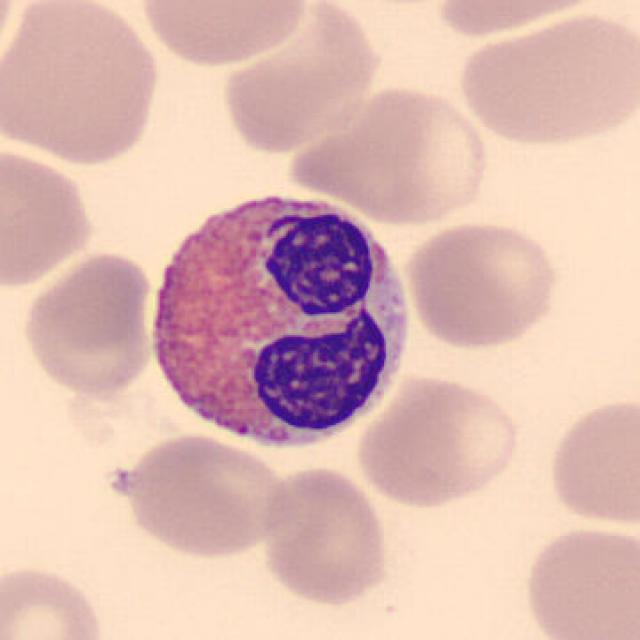Eosinophil: (137, 171, 423, 469)
RBC: (290, 81, 496, 228), (0, 0, 163, 169), (215, 0, 382, 157), (454, 7, 636, 150), (107, 430, 297, 561), (352, 371, 523, 512), (402, 216, 564, 352), (18, 247, 158, 398), (254, 462, 393, 608), (0, 141, 98, 293), (519, 520, 638, 640), (544, 391, 640, 531), (135, 0, 313, 69), (0, 559, 108, 640), (432, 0, 613, 39), (0, 1, 21, 77)
